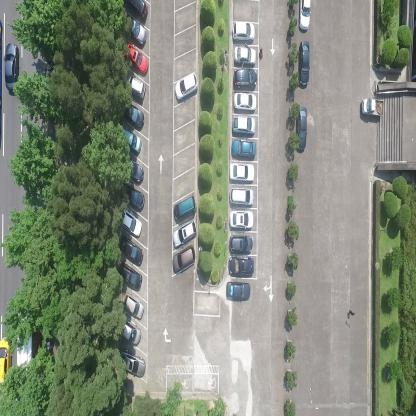car: (125, 40, 149, 77), (118, 233, 143, 267), (117, 260, 142, 292), (119, 348, 146, 377), (4, 42, 19, 92), (172, 219, 197, 248), (118, 318, 142, 348), (172, 244, 196, 273), (175, 71, 198, 101), (122, 184, 146, 211), (120, 208, 141, 238), (173, 194, 196, 221), (0, 335, 12, 385), (127, 16, 147, 46), (124, 99, 144, 129), (298, 39, 310, 88), (123, 156, 143, 185), (360, 95, 384, 119), (231, 137, 257, 159), (229, 162, 255, 184), (228, 256, 254, 278), (125, 72, 146, 99), (233, 68, 258, 90), (225, 282, 251, 303), (233, 44, 256, 67), (232, 20, 256, 42), (232, 114, 256, 136), (296, 105, 307, 152), (229, 208, 254, 228), (228, 234, 253, 254), (123, 295, 143, 320), (297, 0, 312, 33), (122, 127, 141, 153), (229, 187, 254, 206), (233, 92, 257, 111), (126, 0, 148, 19)
